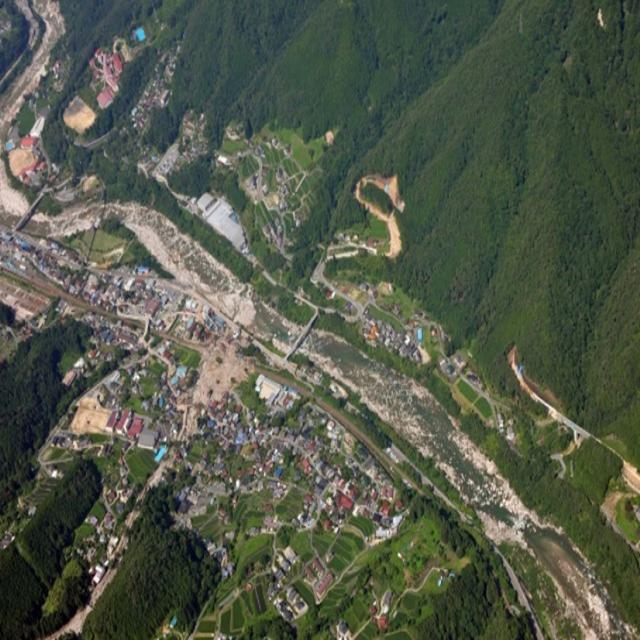Debris-flow: (0, 0, 65, 134), (508, 347, 590, 436), (366, 203, 401, 256), (361, 175, 404, 209), (621, 460, 640, 493)
